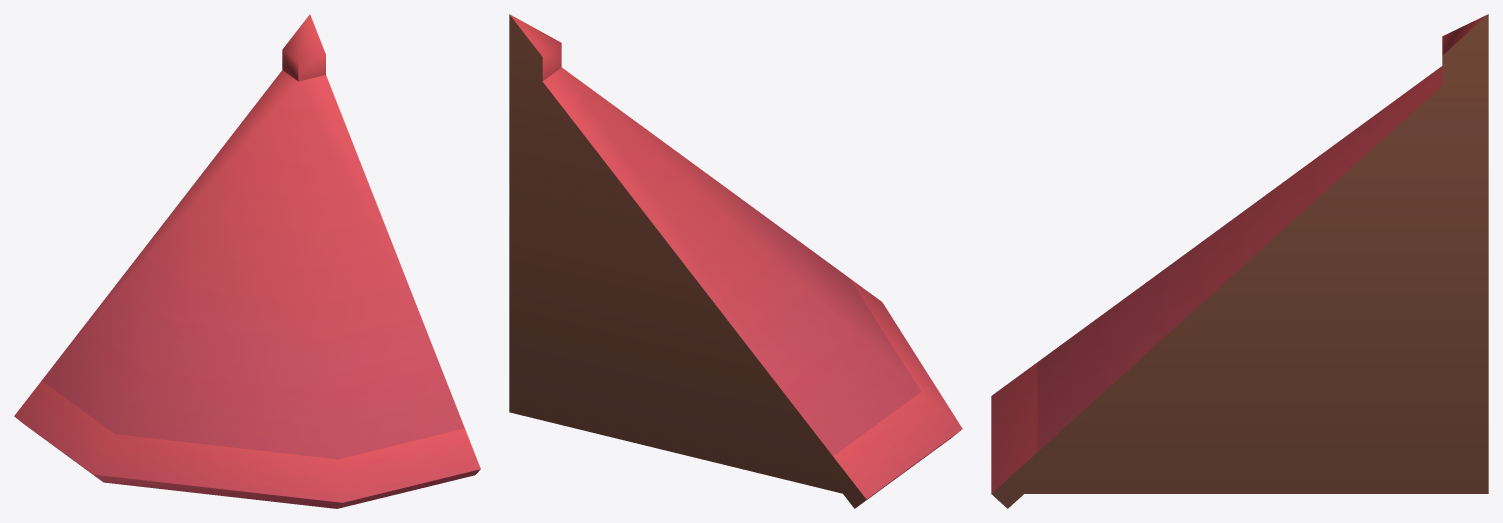
Rendered from roof-high-corner-round.glb.
3 views of the same model, side by side, from view 1: azimuth 30°, elevation 25°; view 2: azimuth 150°, elevation 25°; view 3: azimuth 270°, elevation 25° (orthographic). The views are drawn at different scales.
Parts seen in each view (by area): view 1: roof-high-corner-round; view 2: roof-high-corner-round; view 3: roof-high-corner-round.
Boxes of the visible parts, left/top/right/bottom form: roof-high-corner-round: left=14, top=14, right=480, bottom=508; roof-high-corner-round: left=509, top=14, right=962, bottom=508; roof-high-corner-round: left=991, top=14, right=1488, bottom=508.
Size of the model in its own units: 1.07 by 1.18 by 1.07.
1 material, 1 textured.
